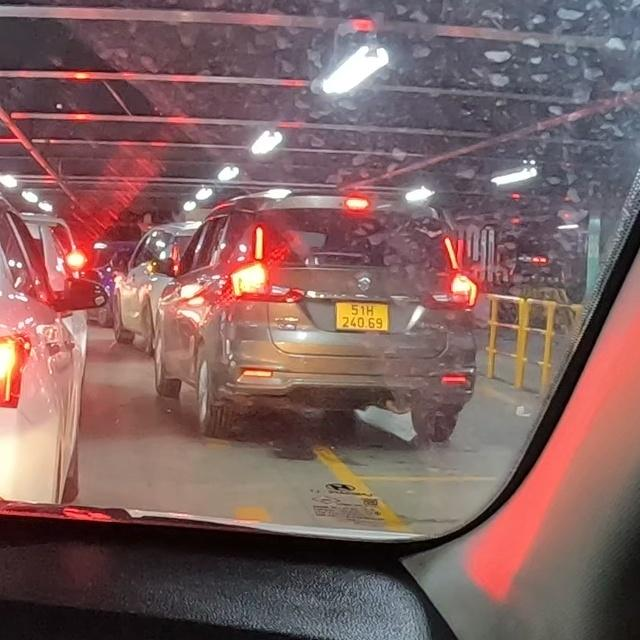license-plate: (334, 298, 392, 334)
